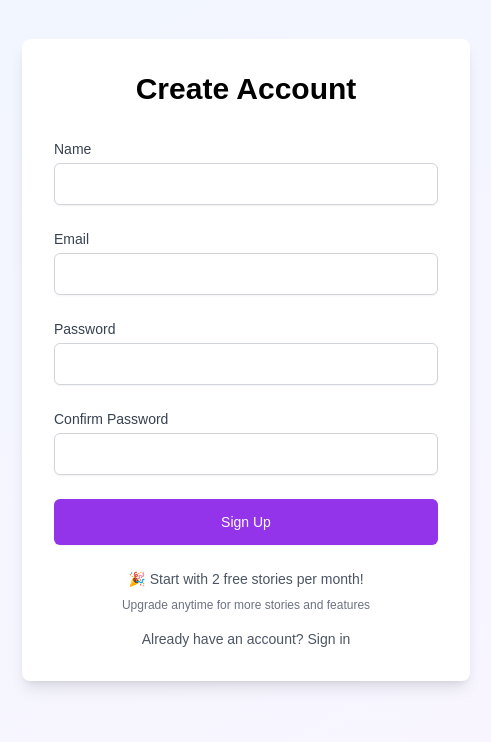
Test: RegisterPage › should validate password match
This screenshot has width=491, height=742.
Type "Test User" into the field labelled "Name". click: [246, 184]
box: [54,163,438,205]
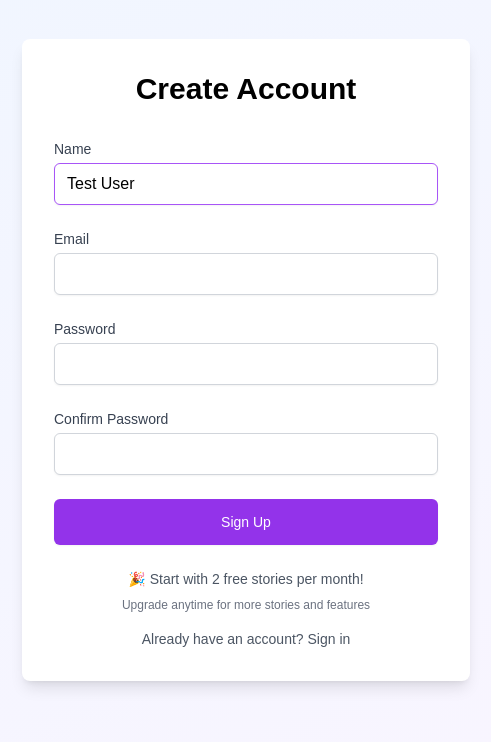
Type "test@example.com" into the field labelled "Email". click: [246, 274]
box: [54,253,438,295]
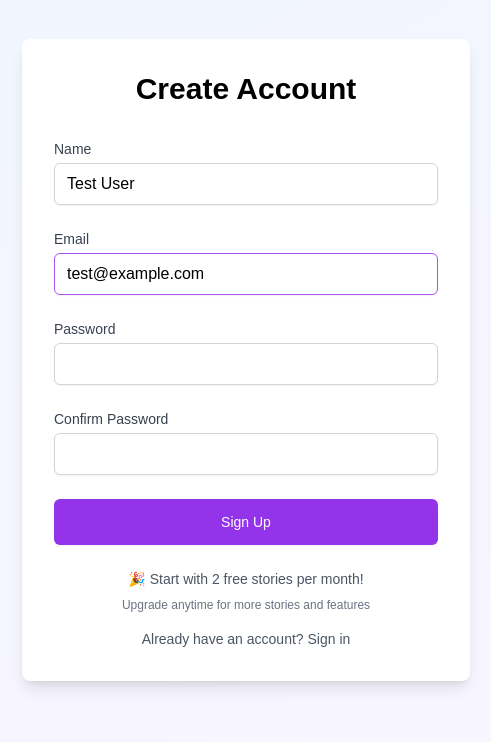
Type "password123" into the password field labelled "Password". click: [246, 364]
box: [54,343,438,385]
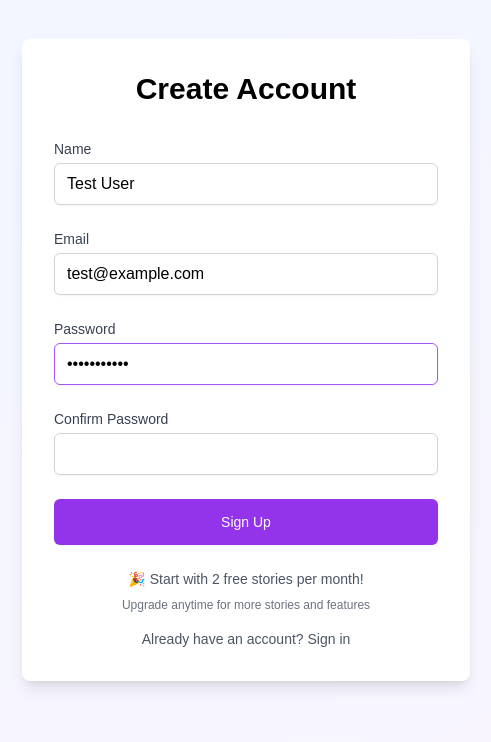
Type "differentpassword" into the password field labelled "Confirm Password". click: [246, 454]
box: [54,433,438,475]
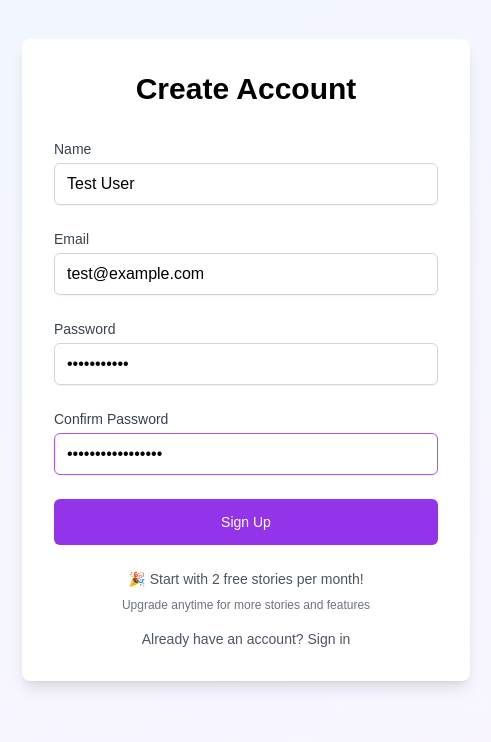
Click the button "Sign Up". click: [246, 522]
box: [54,499,438,545]
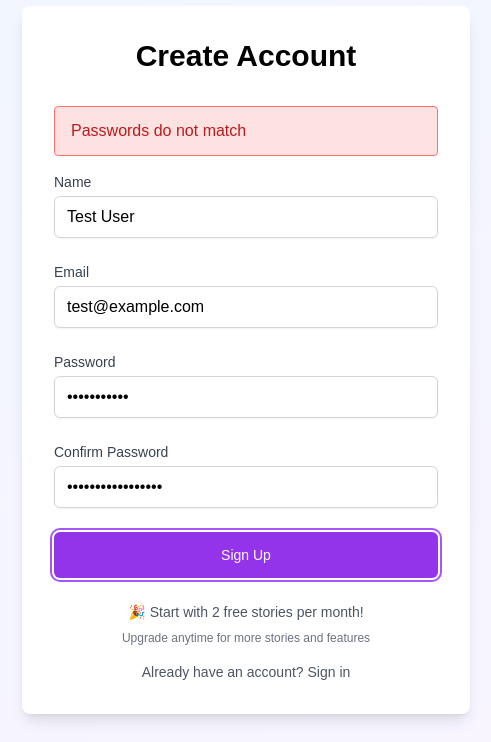
Expected: the text "Passwords do not match" is shown, [54,106,438,156]
